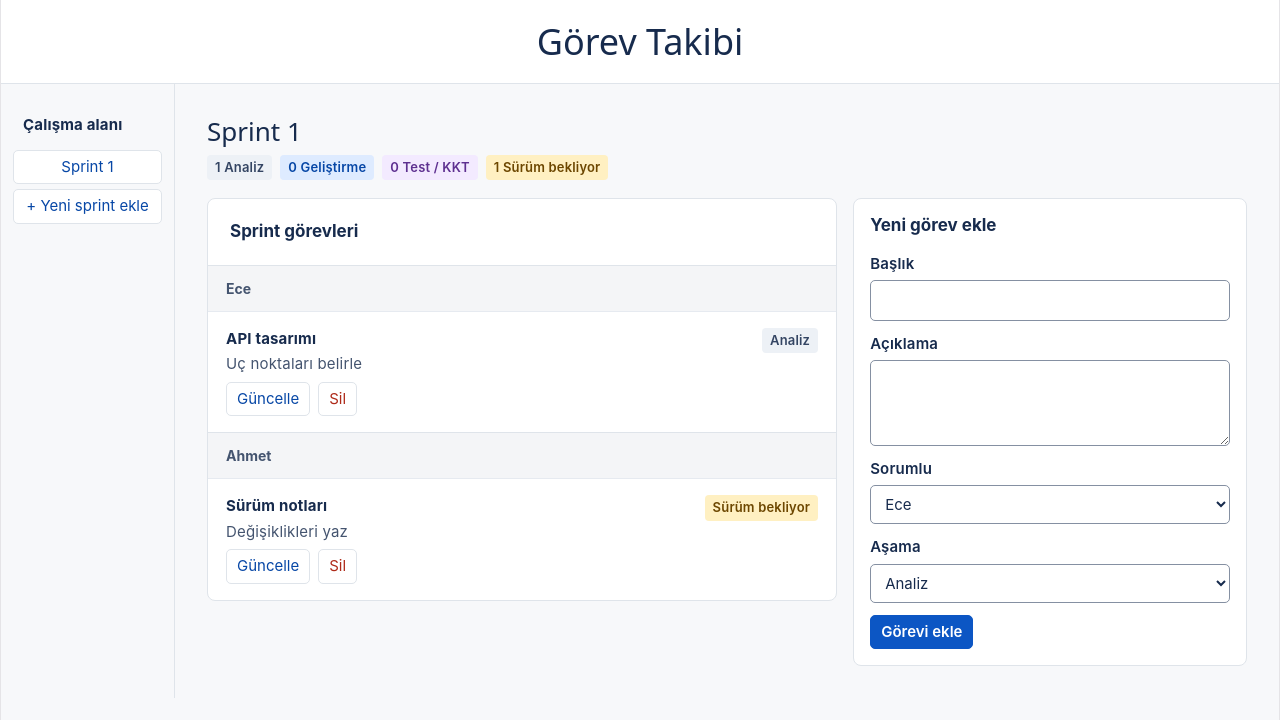
App › silmeden önce onay ister
The width and height of the screenshot is (1280, 720).
Click the button "Sil" below "API tasarımı": point(338, 399) [318,382,357,416]
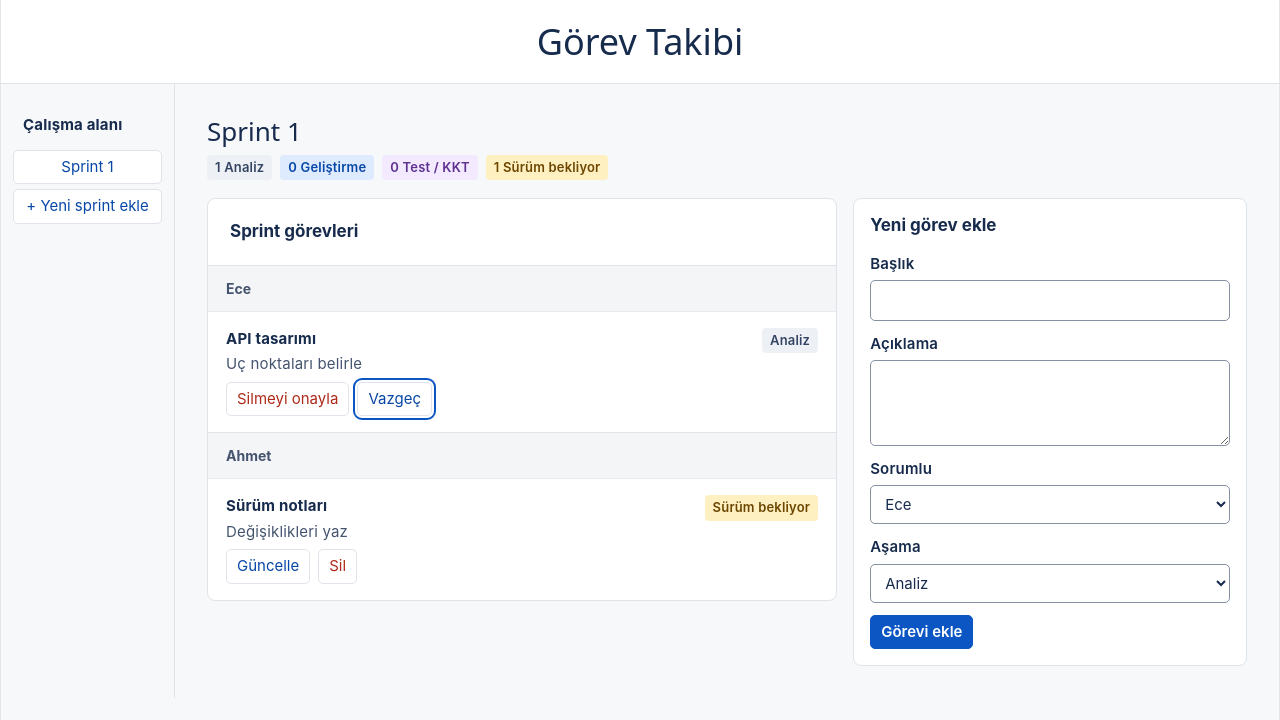
Click the button "Silmeyi onayla": point(288, 399) [226,382,349,416]
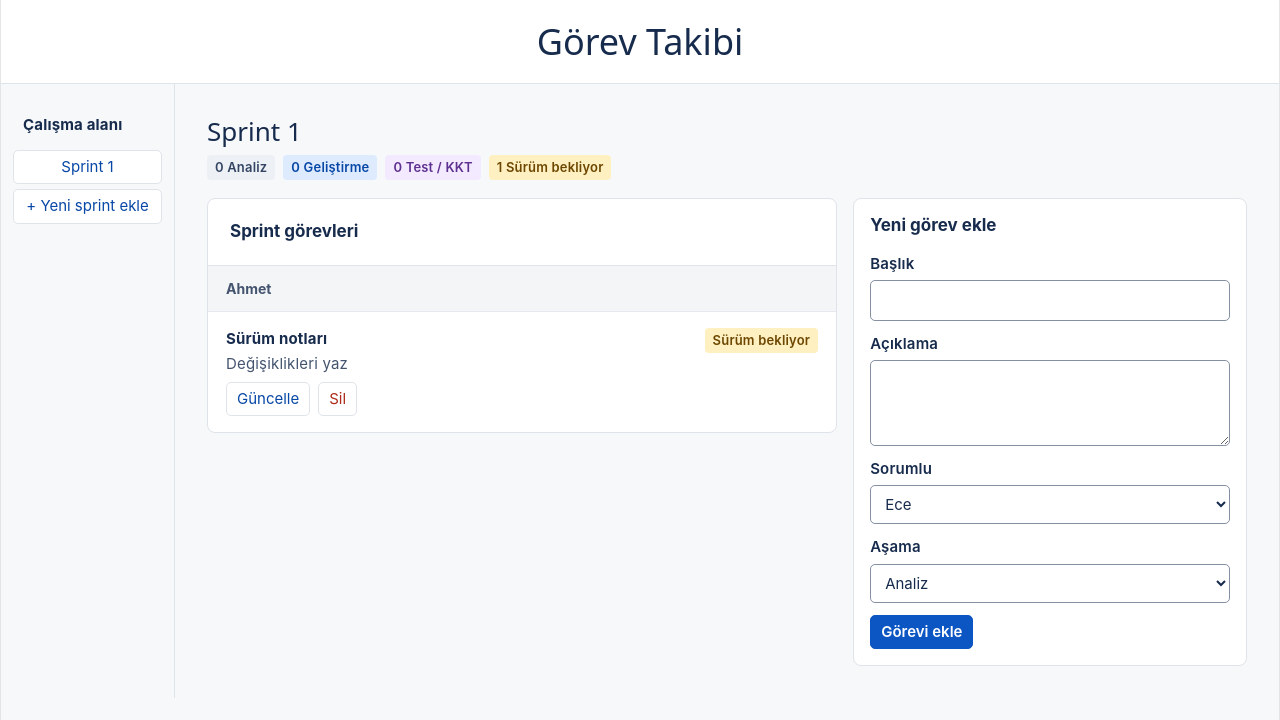
Expected: the text "API tasarımı" is gone
